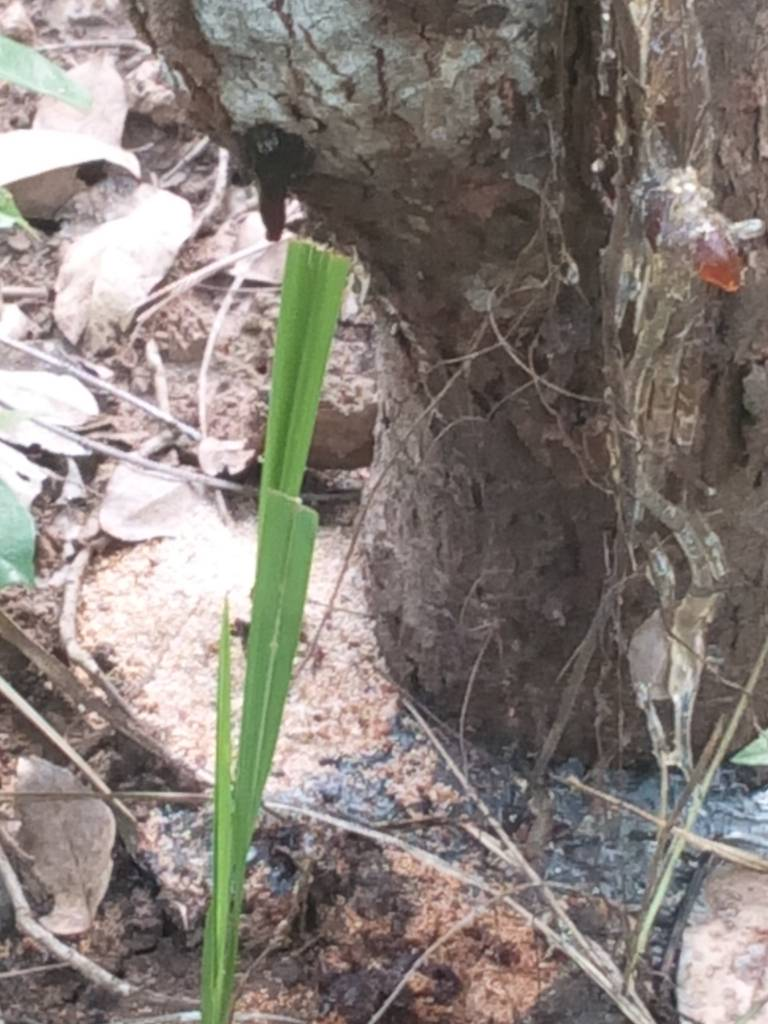Mecocorynus longiceps: (615, 128, 768, 333)
